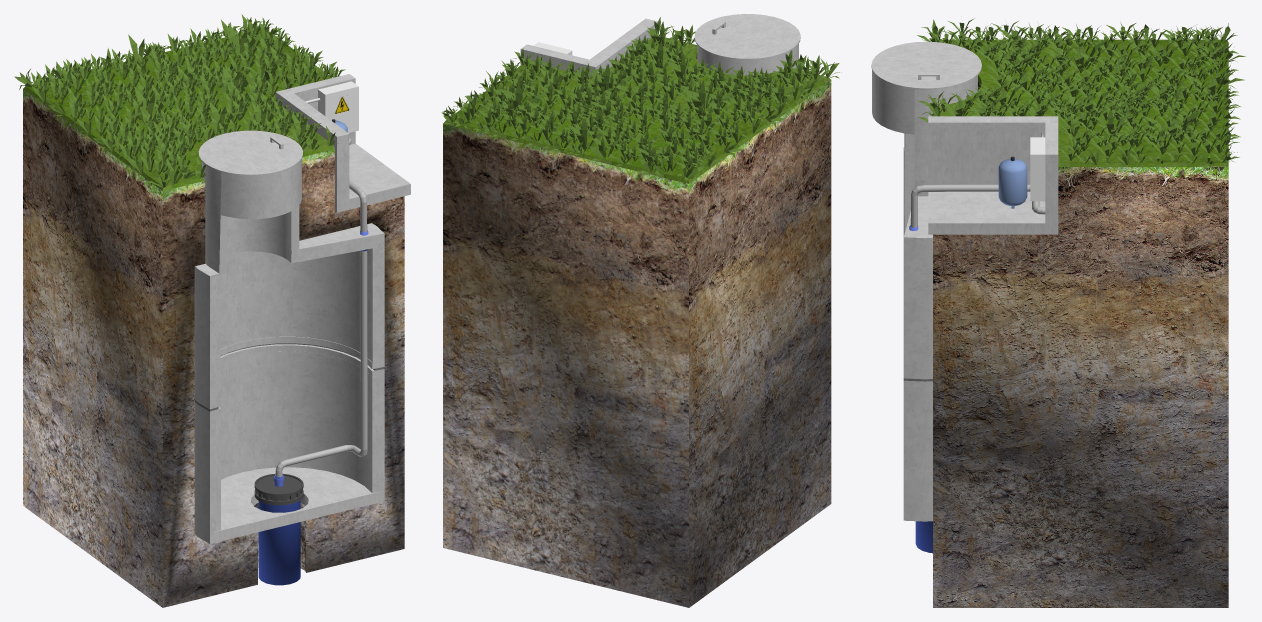
The model's file is caisson_version.glb.
3 views of the same model, side by side, from view 1: azimuth 30°, elevation 25°; view 2: azimuth 150°, elevation 25°; view 3: azimuth 270°, elevation 25° (orthographic). The views are drawn at different scales.
Parts seen in each view (by area): view 1: земля, крышка, трава, коробка, оголовок; view 2: земля, трава, крышка, коробка; view 3: земля, трава, крышка, коробка, оголовок, бойлер.
Part boxes in pixels (<box>): земля: <box>23,89,404,607</box>; крышка: <box>194,130,384,543</box>; трава: <box>14,14,345,190</box>; коробка: <box>275,74,410,212</box>; оголовок: <box>254,137,368,585</box>; земля: <box>443,53,831,607</box>; трава: <box>441,17,841,183</box>; крышка: <box>694,14,800,75</box>; коробка: <box>520,18,657,76</box>; земля: <box>933,81,1228,607</box>; трава: <box>917,18,1245,170</box>; крышка: <box>871,41,981,521</box>; коробка: <box>928,116,1058,234</box>; оголовок: <box>909,184,1045,553</box>; бойлер: <box>998,156,1027,208</box>.
Bounding box in the file's own units: 2.18 × 3.57 × 2.54.
13 materials, 5 textured.
